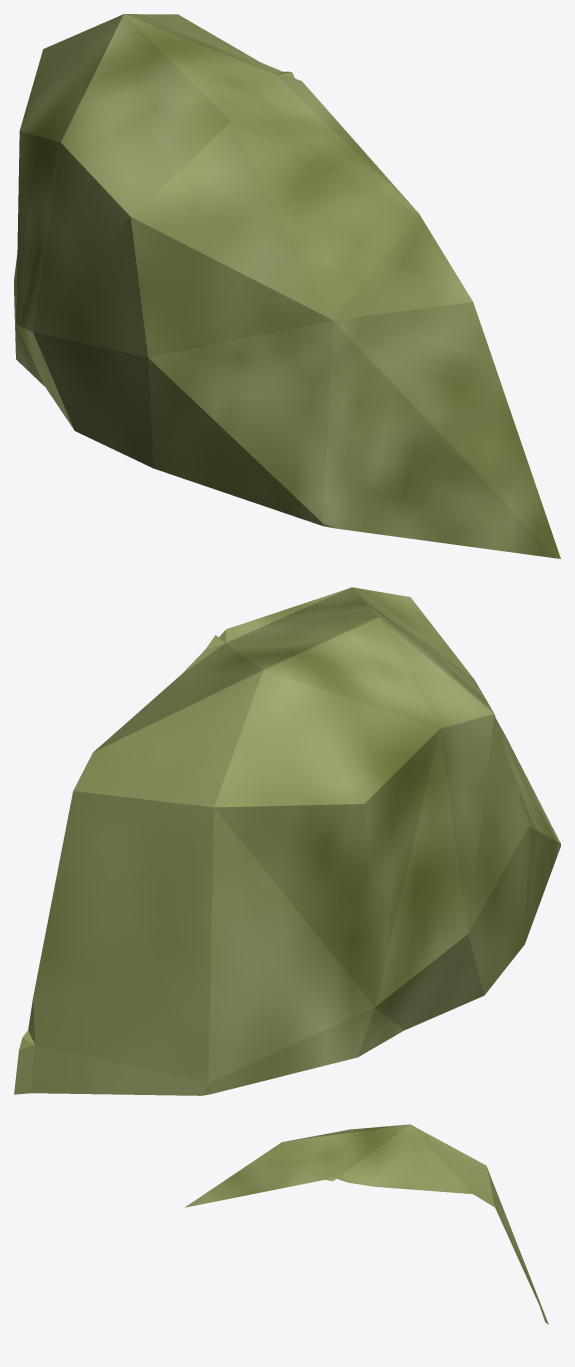
The picture shows the model from 3 angles, top to bottom: view 1: azimuth 30°, elevation 25°; view 2: azimuth 150°, elevation 25°; view 3: azimuth 270°, elevation 25°; orthographic projection. The views are drawn at different scales.
Size of the model in its own units: 0.1979 by 0.2519 by 0.6335.
1 material, 1 textured.
